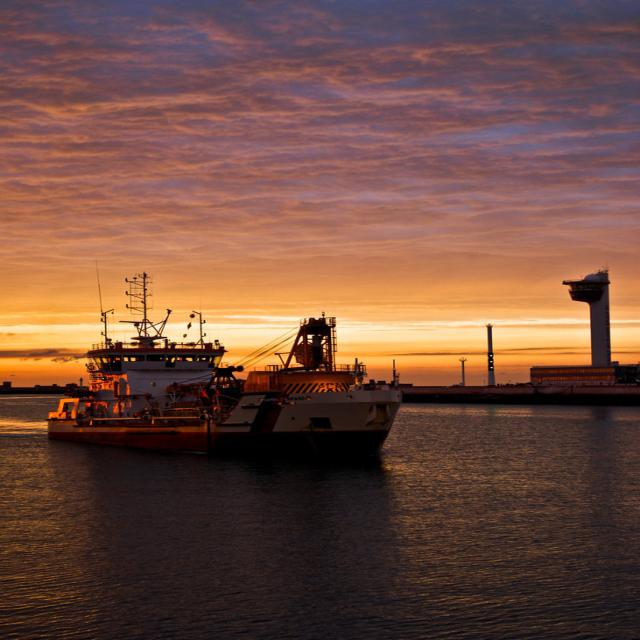Boat: (34, 284, 458, 517)
